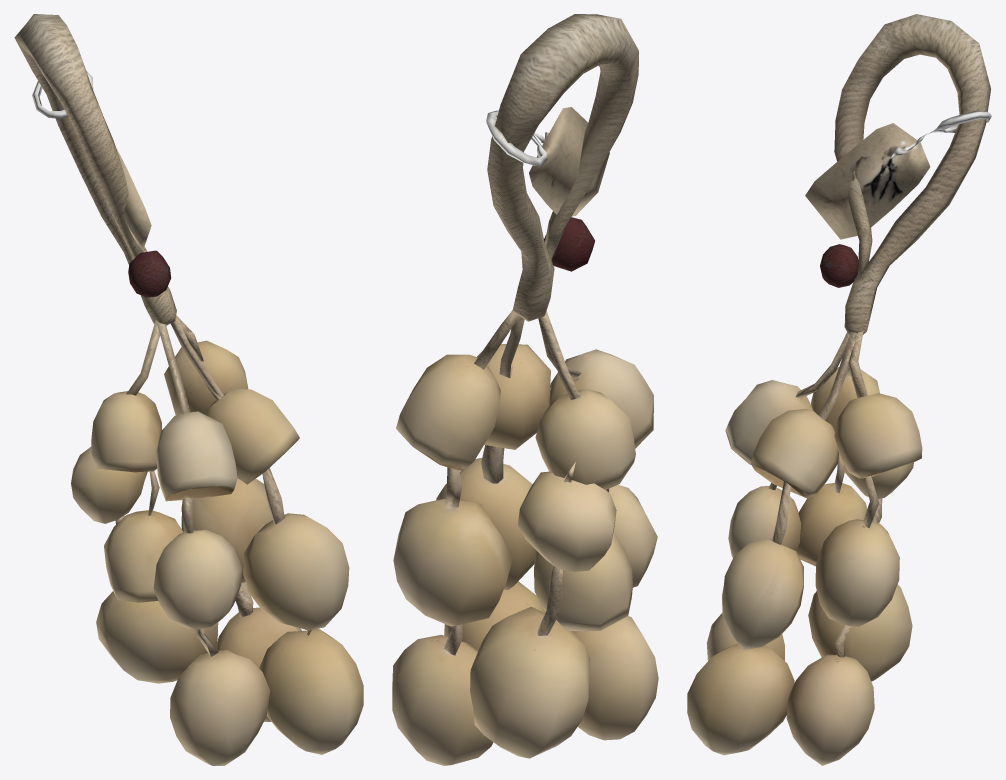
3 renders of one model, left to right at view 1: azimuth 30°, elevation 25°; view 2: azimuth 150°, elevation 25°; view 3: azimuth 270°, elevation 25°, orthographic. The views are drawn at different scales.
Parts seen in each view (by area): view 1: tripo_node_942245c3-1662-47ad-823a-3cd26ad6d86c; view 2: tripo_node_942245c3-1662-47ad-823a-3cd26ad6d86c; view 3: tripo_node_942245c3-1662-47ad-823a-3cd26ad6d86c.
Boxes of the visible parts, left/top/right/bottom form: tripo_node_942245c3-1662-47ad-823a-3cd26ad6d86c: left=14, top=14, right=363, bottom=765; tripo_node_942245c3-1662-47ad-823a-3cd26ad6d86c: left=392, top=14, right=658, bottom=765; tripo_node_942245c3-1662-47ad-823a-3cd26ad6d86c: left=687, top=14, right=991, bottom=765.
Size of the model in its own units: 0.3325 by 0.9468 by 0.3929.
Materials: 1 (1 with a texture image).
